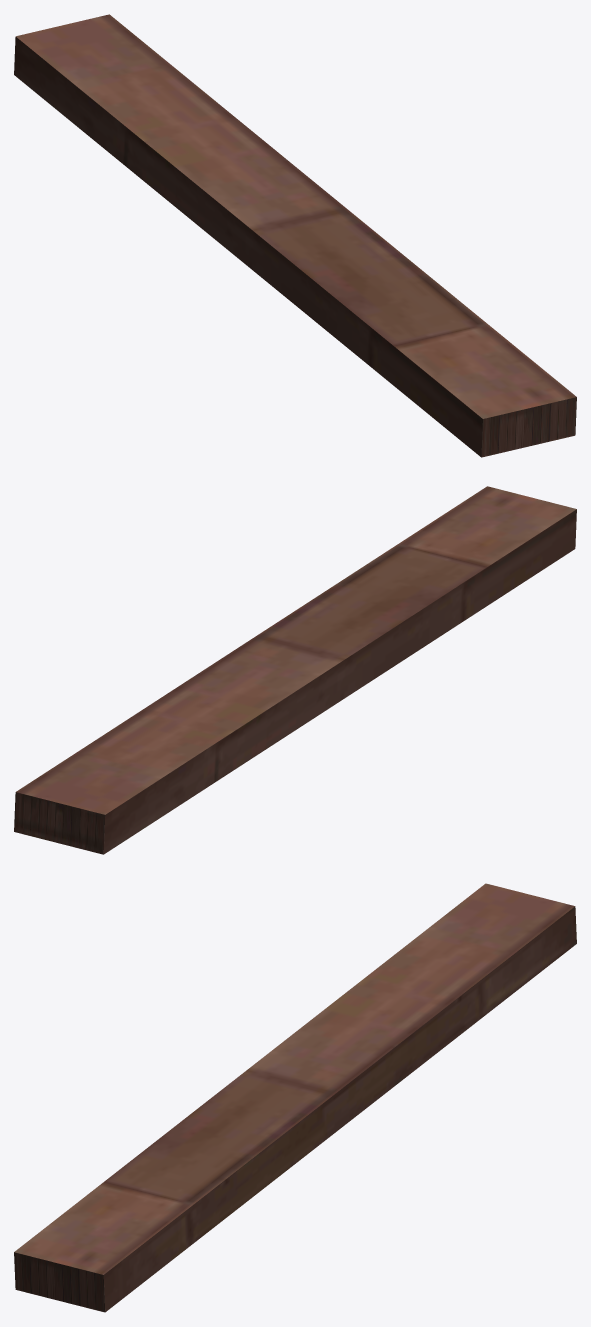
Rendered from woodBlock2 (35).fbx.
The picture shows the model from 3 angles, top to bottom: view 1: azimuth 30°, elevation 25°; view 2: azimuth 150°, elevation 25°; view 3: azimuth 330°, elevation 25°; orthographic projection. The views are drawn at different scales.
Visible parts, largest first — view 1: woodBlock2 (35); view 2: woodBlock2 (35); view 3: woodBlock2 (35).
Boxes of the visible parts, left/top/right/bottom form: woodBlock2 (35): left=14, top=14, right=576, bottom=457; woodBlock2 (35): left=14, top=486, right=576, bottom=854; woodBlock2 (35): left=14, top=883, right=576, bottom=1312.
Size of the model in its own units: 15 by 10.18 by 123.
